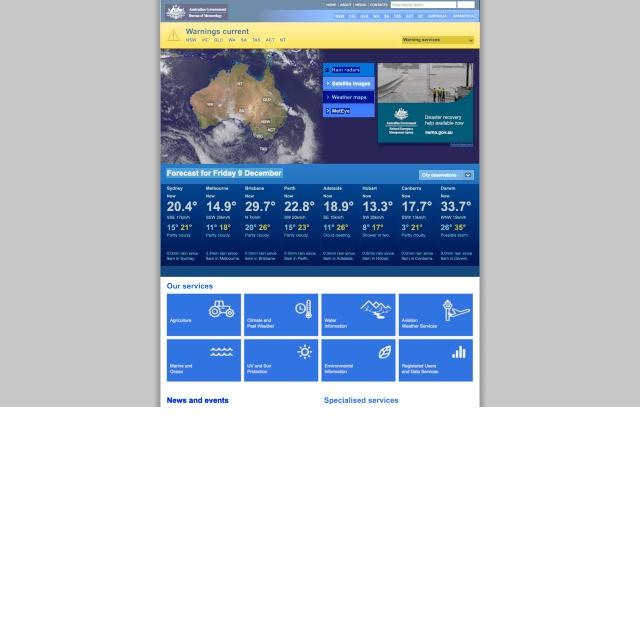CheckBox: (323, 63, 375, 76), (323, 104, 375, 117), (323, 77, 375, 89), (323, 91, 374, 103), (458, 1, 474, 8)
CheckedTextView: (391, 1, 456, 8)
ImageView: (377, 62, 474, 146)
ProgressBar: (160, 22, 480, 48)
QR code: (161, 184, 479, 266)
alert: (402, 36, 474, 44), (419, 170, 474, 180)
bag: (160, 0, 479, 22)
breadcrumbs: (166, 168, 283, 178), (324, 396, 399, 405), (167, 396, 230, 405), (166, 282, 214, 290)
card: (160, 49, 480, 164)
carousel: (465, 173, 471, 177), (326, 108, 329, 114), (326, 68, 330, 72), (326, 95, 330, 99), (326, 81, 329, 86)
data feed: (332, 81, 371, 87), (330, 94, 368, 100), (332, 67, 360, 73), (331, 108, 350, 115), (460, 3, 472, 7)
date picker: (165, 4, 228, 20)
decoration: (167, 294, 473, 382), (334, 13, 474, 19), (185, 38, 287, 42), (325, 2, 389, 8)
footer: (392, 3, 424, 7)
